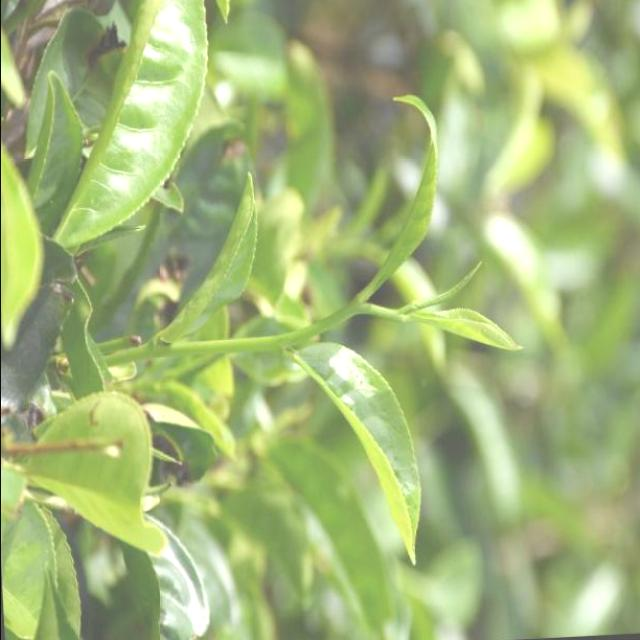Stem: (315, 310, 350, 337)
